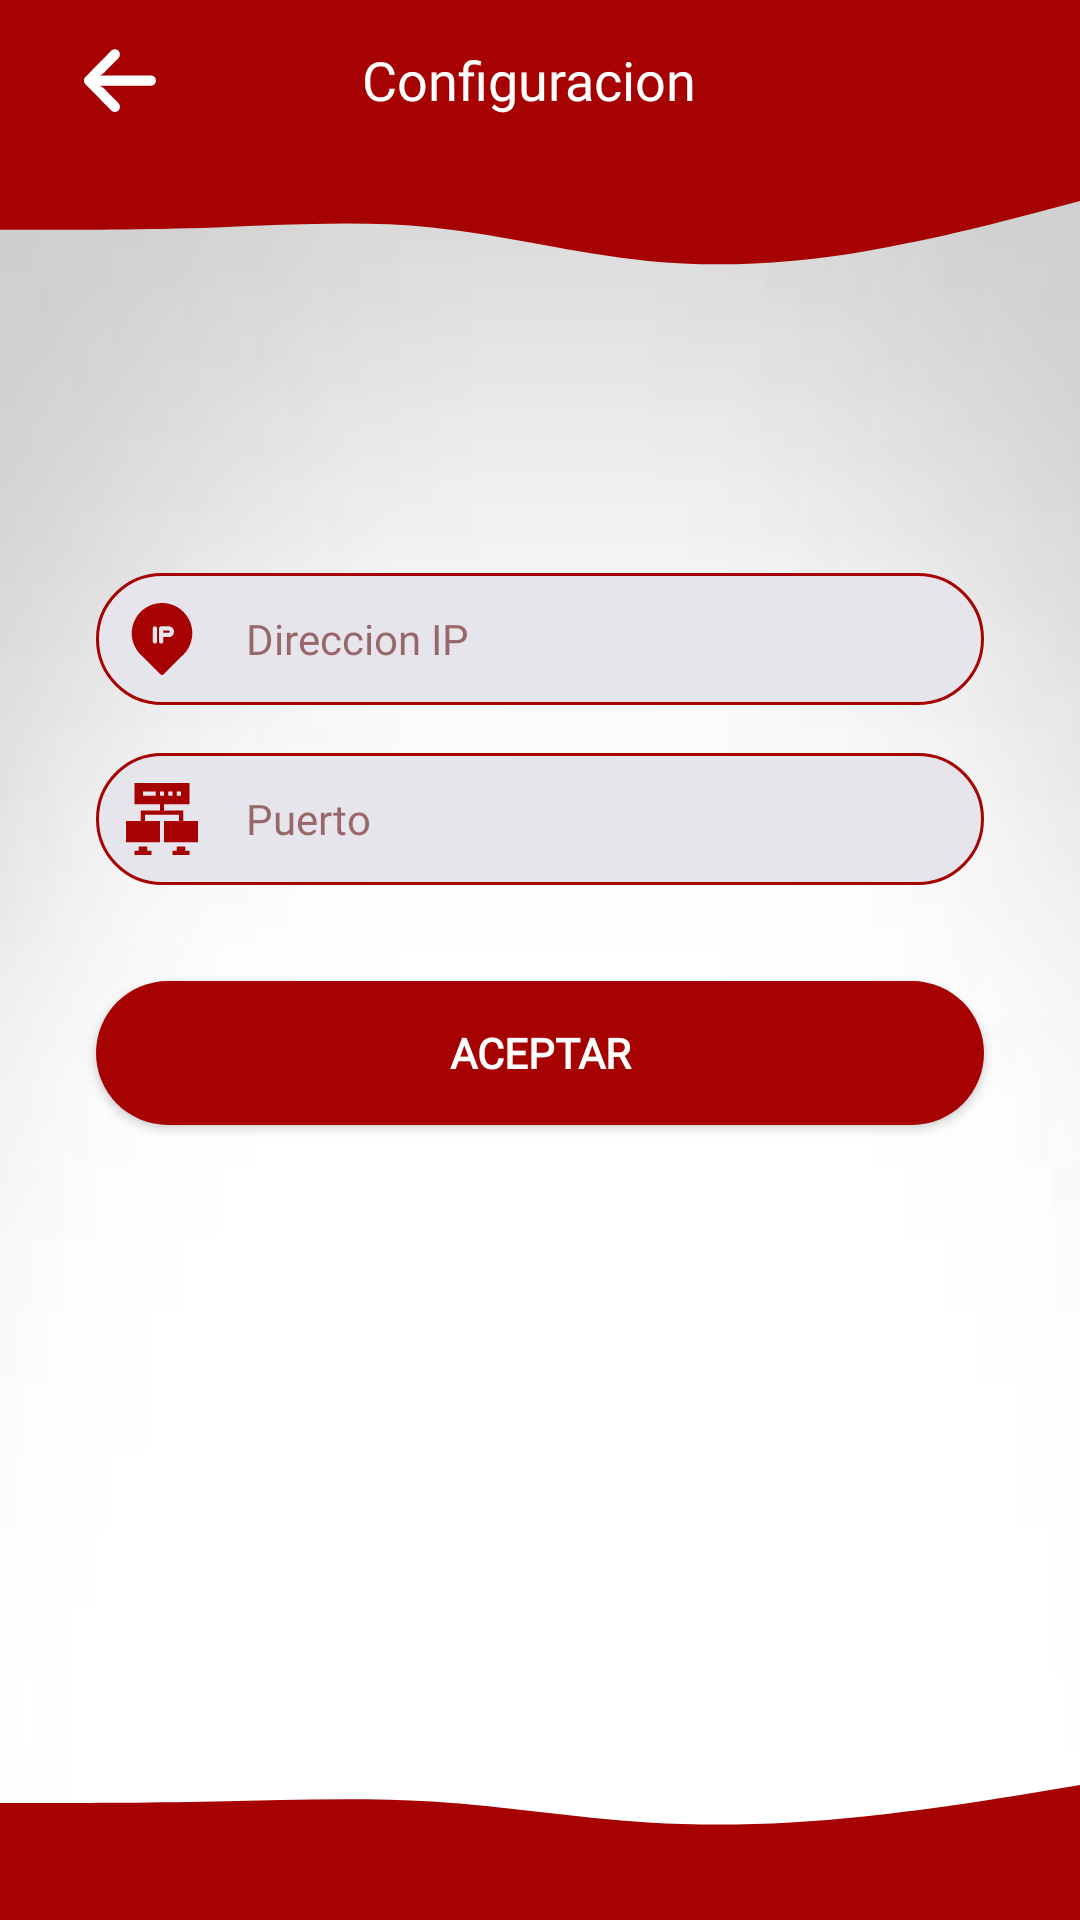

Icons on this 1080*1920 Android screen, each with its box as bbox=[x1, y1, x2, y2]:
flecha: bbox=[84, 49, 156, 112]
